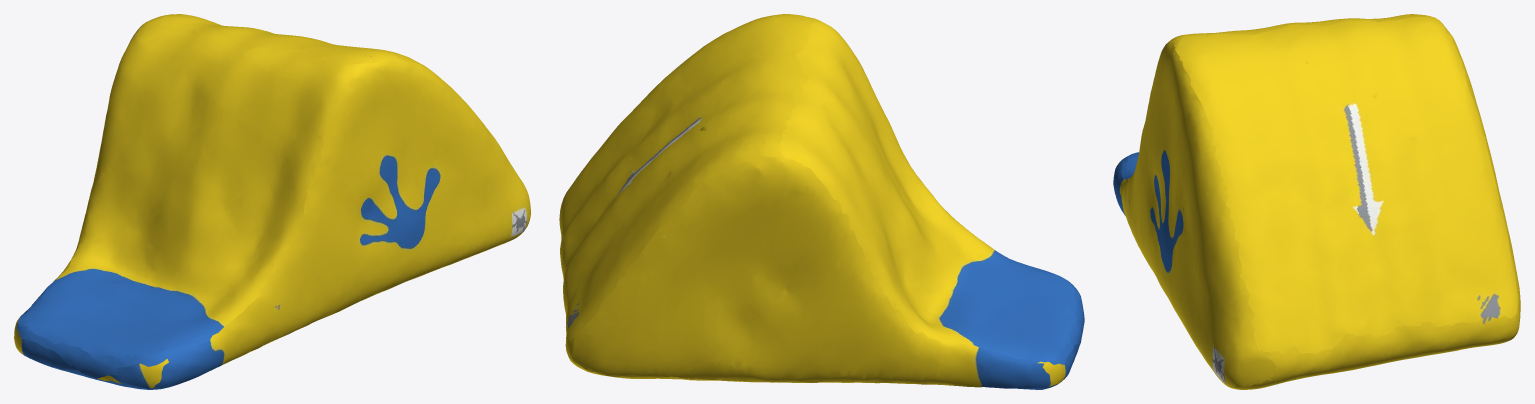
File: slope.glb
3 views of the same model, side by side, from view 1: azimuth 30°, elevation 25°; view 2: azimuth 150°, elevation 25°; view 3: azimuth 270°, elevation 25° (orthographic). The views are drawn at different scales.
Parts seen in each view (by area): view 1: geometry_0; view 2: geometry_0; view 3: geometry_0.
Part boxes in pixels (<box>): geometry_0: <box>14,14,530,389</box>; geometry_0: <box>559,14,1084,389</box>; geometry_0: <box>1113,14,1520,389</box>.
Bounding box in the file's own units: 2.99 × 1.49 × 1.99.
Materials: 1 (1 with a texture image).
